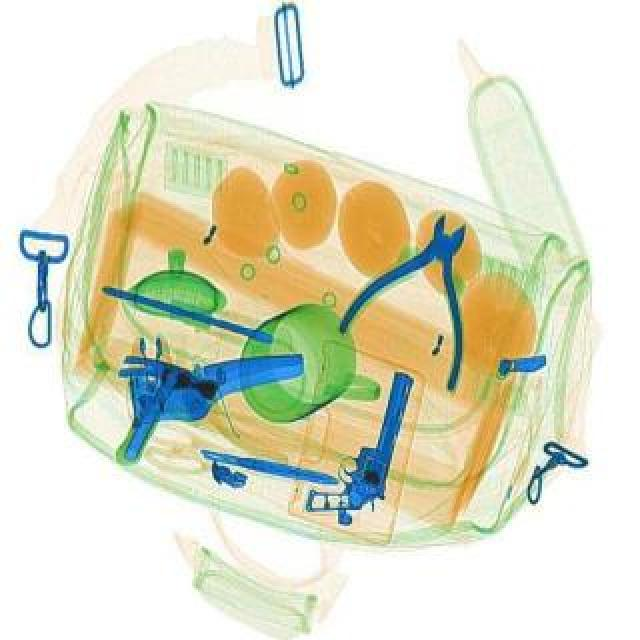gun: (304, 358, 424, 532)
wrench: (330, 194, 520, 390)
